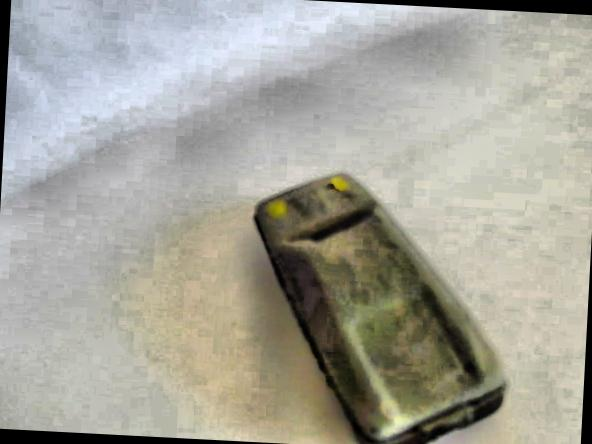normal_car: (238, 165, 516, 444)
